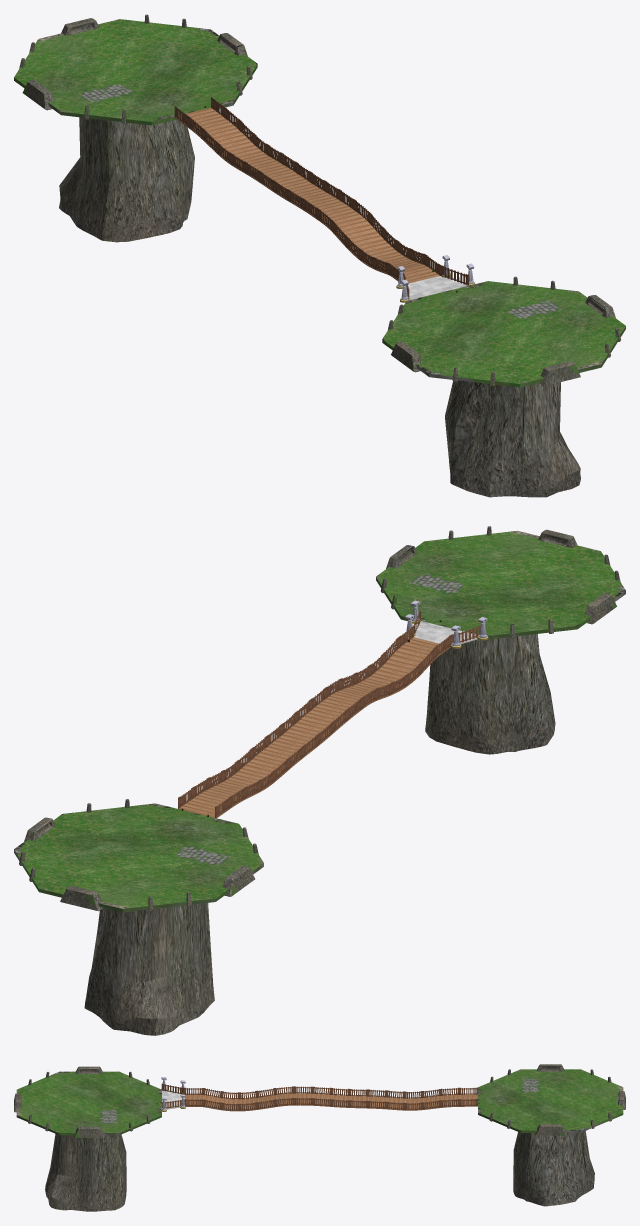
File: TRACK1 (1).fbx
3 renders of one model, top to bottom at view 1: azimuth 30°, elevation 25°; view 2: azimuth 150°, elevation 25°; view 3: azimuth 270°, elevation 25°, orthographic. The views are drawn at different scales.
Visible parts, largest first — view 1: _gltfNode_23.001, _gltfNode_23.002, CASTLE_ON_THE_HILL__4_:pCube39_CASTLE_ON_THE_HILL__4_:blinn., CASTLE_ON_THE_HILL__4_:pCube39_CASTLE_ON_THE_HILL__4_:blinn, Cube, Cube.002, Cube.001; view 2: _gltfNode_23.002, _gltfNode_23.001, CASTLE_ON_THE_HILL__4_:pCube39_CASTLE_ON_THE_HILL__4_:blinn., CASTLE_ON_THE_HILL__4_:pCube39_CASTLE_ON_THE_HILL__4_:blinn, Cube, Cube.002, Cube.001; view 3: _gltfNode_23.001, _gltfNode_23.002, CASTLE_ON_THE_HILL__4_:pCube39_CASTLE_ON_THE_HILL__4_:blinn, CASTLE_ON_THE_HILL__4_:pCube39_CASTLE_ON_THE_HILL__4_:blinn., Cube.002, Cube, Cube.001.
Part boxes in pixels (<box>): _gltfNode_23.001: <box>382,276,625,387</box>; _gltfNode_23.002: <box>14,14,257,125</box>; CASTLE_ON_THE_HILL__4_:pCube39_CASTLE_ON_THE_HILL__4_:blinn.: <box>59,117,194,242</box>; CASTLE_ON_THE_HILL__4_:pCube39_CASTLE_ON_THE_HILL__4_:blinn: <box>445,380,580,497</box>; Cube: <box>174,107,439,283</box>; Cube.002: <box>174,96,468,299</box>; Cube.001: <box>407,276,467,299</box>; _gltfNode_23.002: <box>14,799,263,912</box>; _gltfNode_23.001: <box>376,526,625,639</box>; CASTLE_ON_THE_HILL__4_:pCube39_CASTLE_ON_THE_HILL__4_:blinn.: <box>84,903,214,1035</box>; CASTLE_ON_THE_HILL__4_:pCube39_CASTLE_ON_THE_HILL__4_:blinn: <box>425,634,555,754</box>; Cube: <box>179,637,450,818</box>; Cube.002: <box>178,610,480,817</box>; Cube.001: <box>414,621,477,644</box>; _gltfNode_23.001: <box>14,1066,161,1137</box>; _gltfNode_23.002: <box>478,1064,625,1135</box>; CASTLE_ON_THE_HILL__4_:pCube39_CASTLE_ON_THE_HILL__4_:blinn: <box>45,1134,126,1211</box>; CASTLE_ON_THE_HILL__4_:pCube39_CASTLE_ON_THE_HILL__4_:blinn.: <box>513,1131,594,1206</box>; Cube.002: <box>161,1083,477,1110</box>; Cube: <box>184,1093,477,1111</box>; Cube.001: <box>162,1090,184,1109</box>.
Bounding box in the file's own units: 2914 × 2122 × 11414.
Materials: 7 (7 with a texture image).
